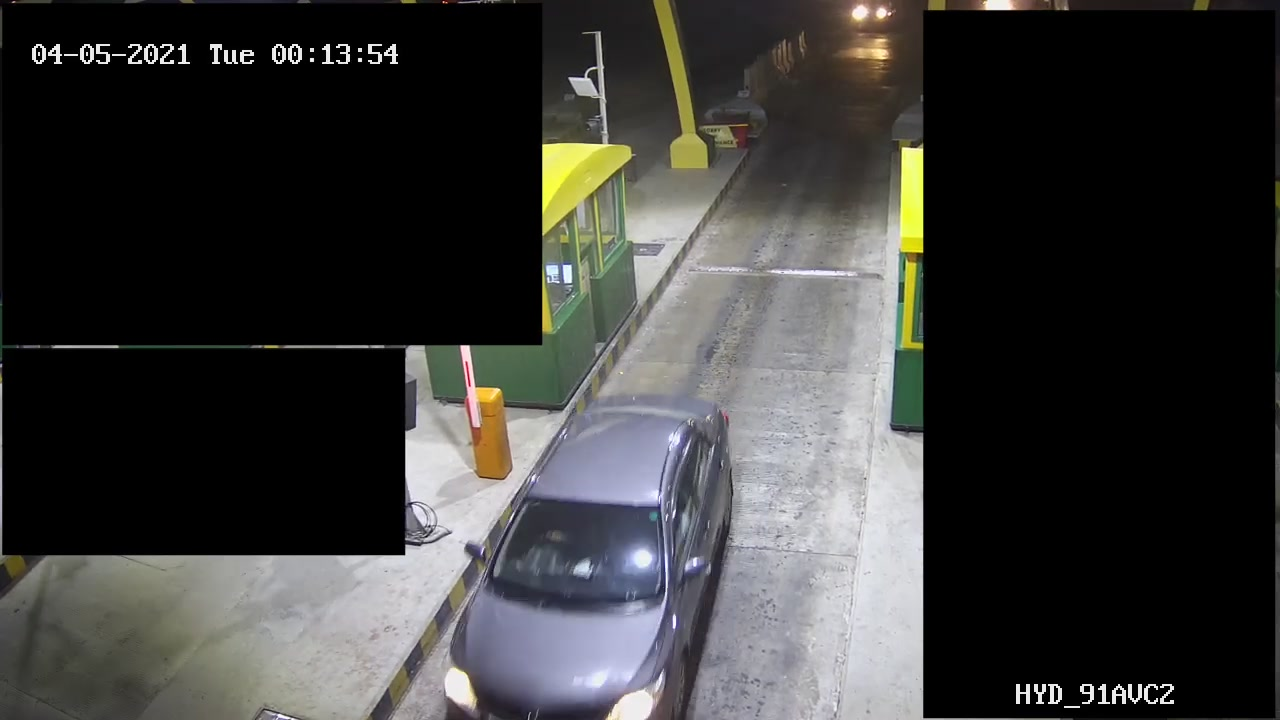F1: (438, 392, 749, 716)
